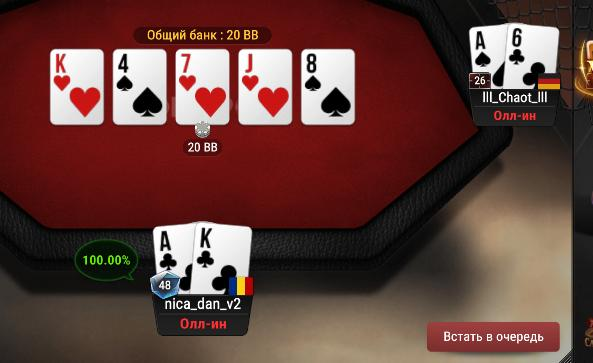4s: (113, 49, 166, 124)
6c: (507, 24, 557, 85)
7h: (176, 49, 229, 124)
8s: (302, 50, 355, 124)
Ac: (152, 224, 194, 294)
As: (469, 27, 505, 88)
Jh: (239, 50, 292, 125)
Kc: (194, 222, 252, 294)
Kh: (50, 49, 104, 122)
